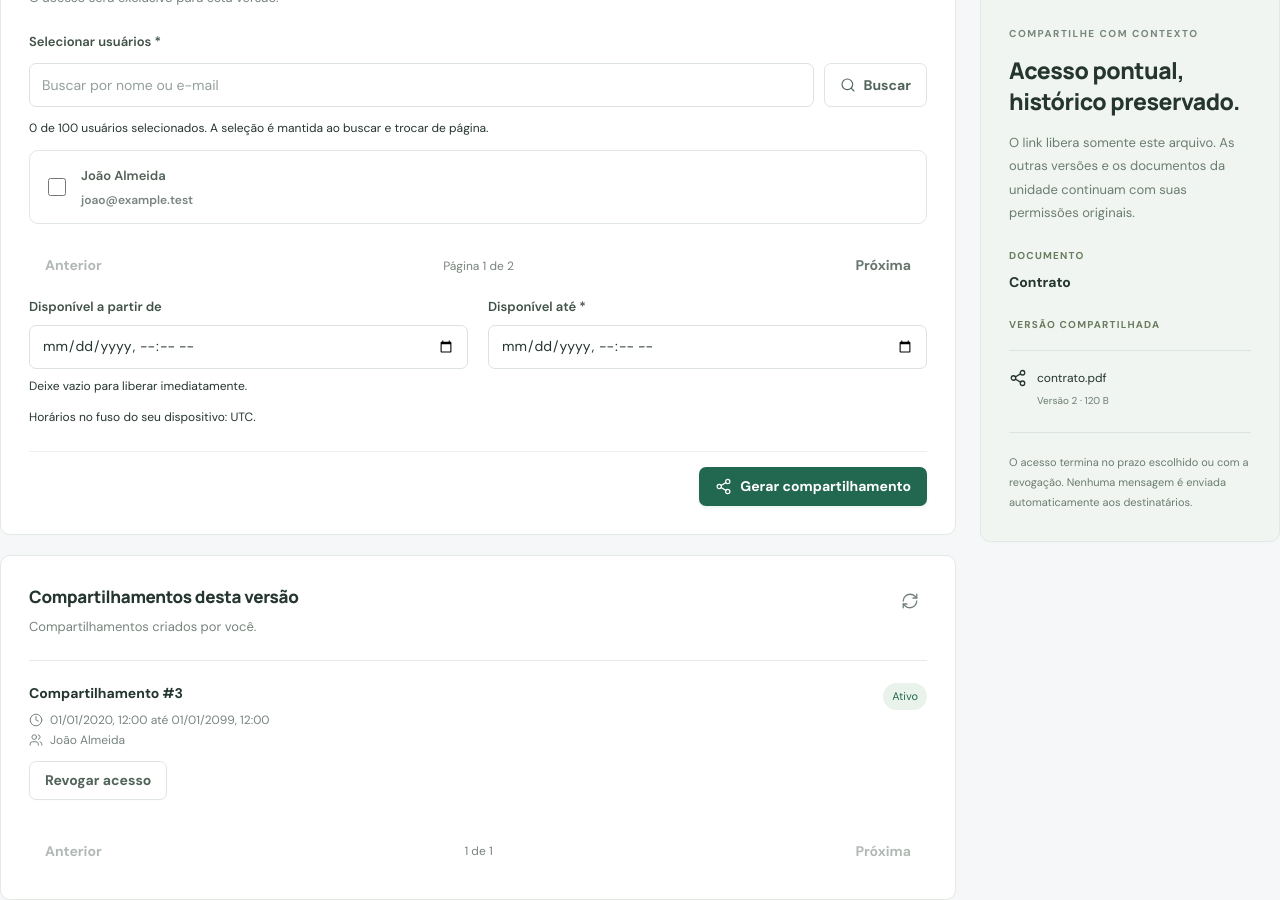
Test case: compartilhamento por versão › revoga acesso próprio e atualiza a situação só após confirmação do servidor
(page scrolled)
Click the button with class "revoke-button" at (98, 780), box [29,761,167,800]
(page scrolled)
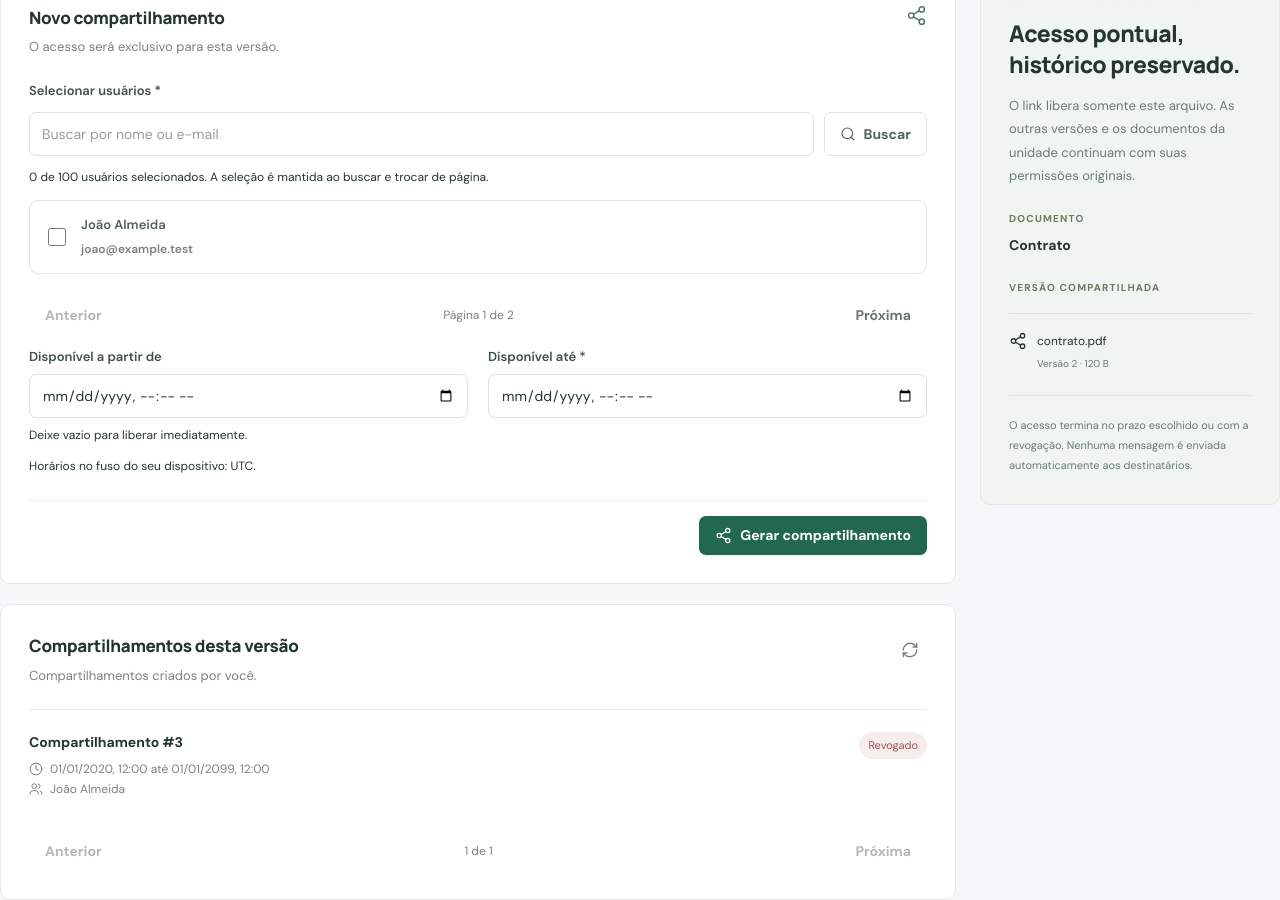
expect the text "Revogado" is shown: met, box [859,732,927,759]
